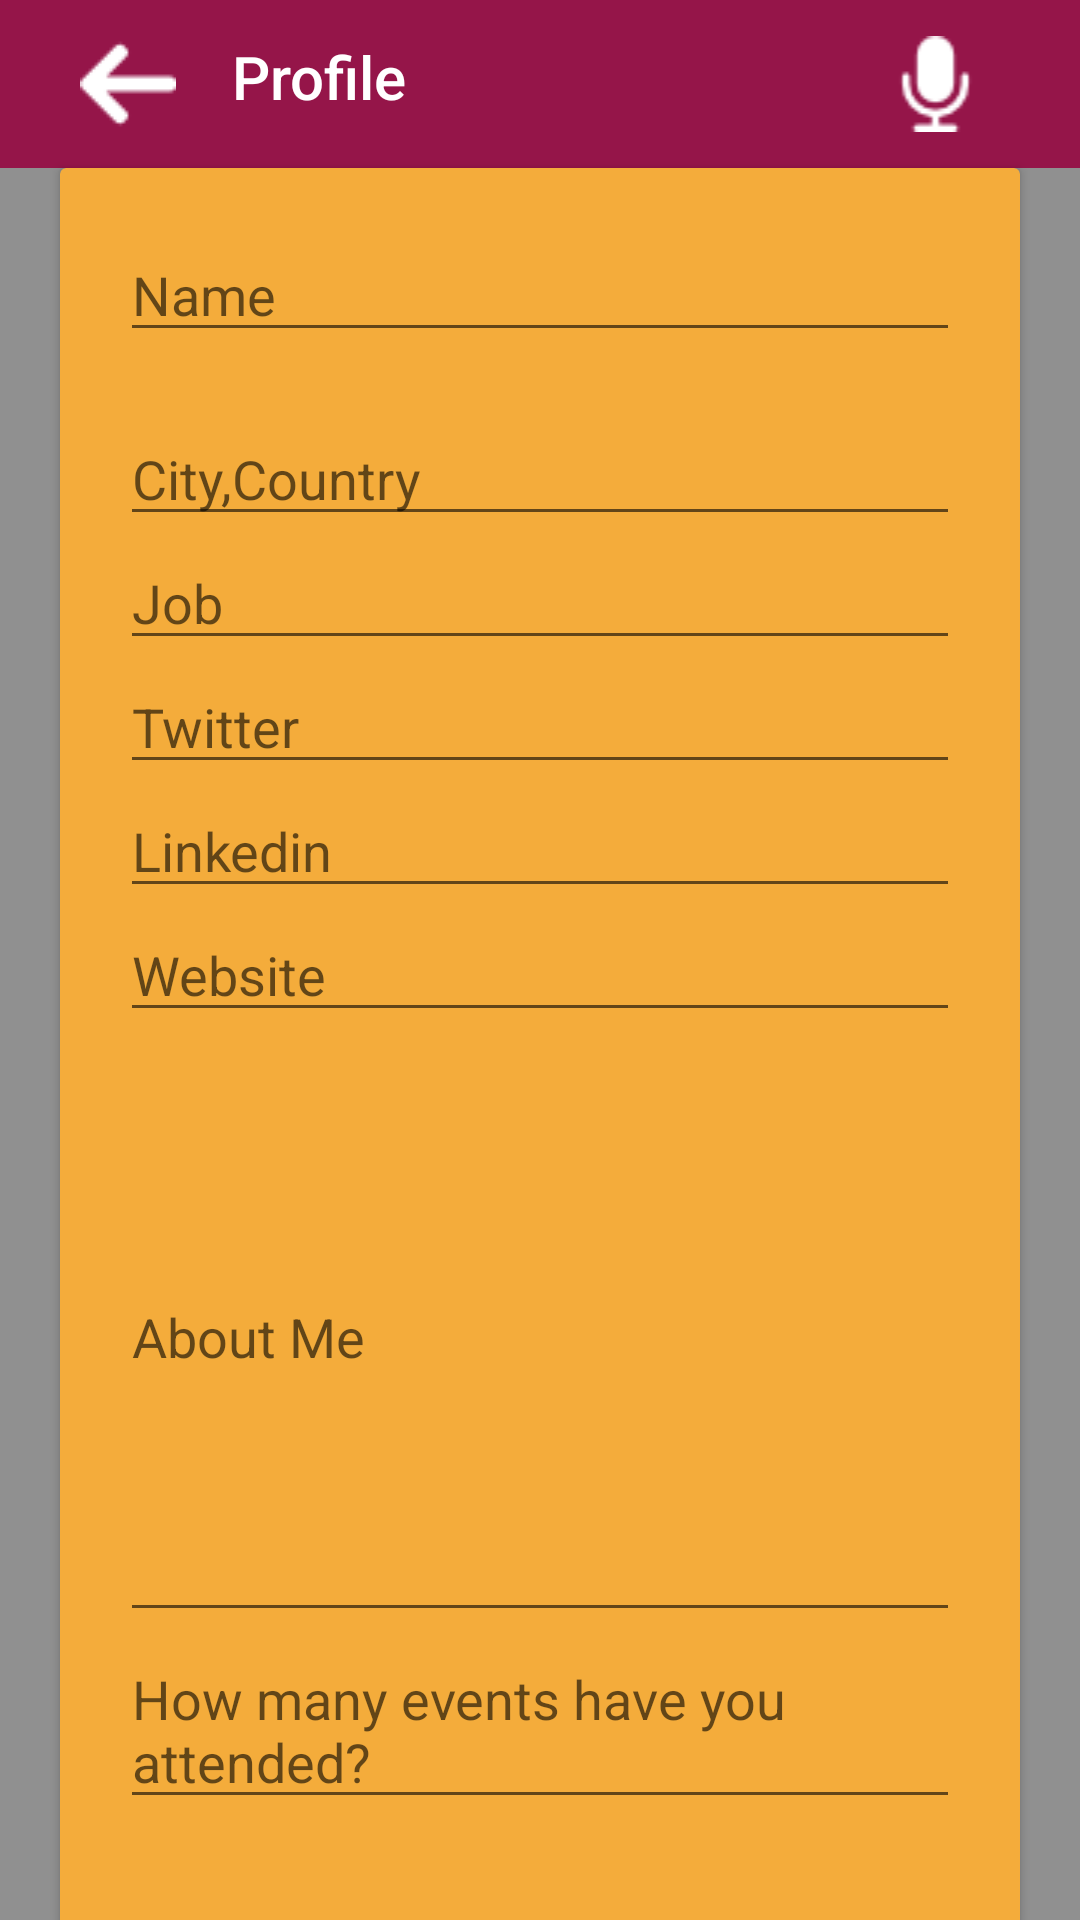

Where icons sit on this 1080w x 1920h app screen, as [x1,y1,x2,y2]:
left: [80,42,176,126]
